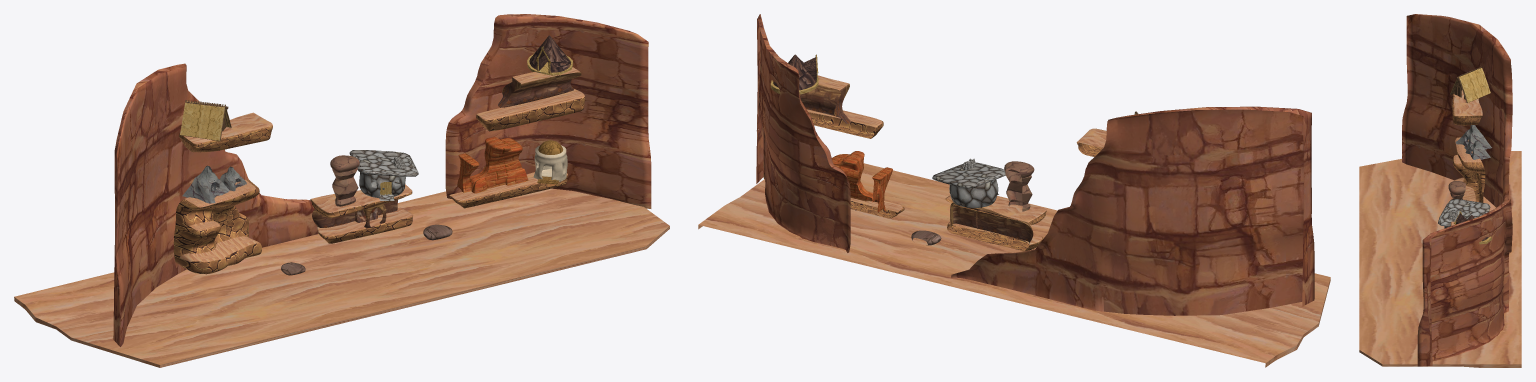
Rendered from Stage.FBX.
3 renders of one model, left to right at view 1: azimuth 30°, elevation 25°; view 2: azimuth 150°, elevation 25°; view 3: azimuth 270°, elevation 25°, orthographic. The views are drawn at different scales.
Parts seen in each view (by area): view 1: Ground, Stage_Right, Stage_Left, Left_Down, Right_Down, Central_Down, Right_Up, Picapiedra's House, Left_Up, Straw House, platform-problem, Volcano House (+3 smaller); view 2: Stage_Left, Ground, Stage_Right, Central_Down, Picapiedra's House, Right_Down, Right_Up, platform-problem, Central_Up, Conic House, Left_Up; view 3: Ground, Stage_Left, Stage_Right, Left_Down, Straw House, Picapiedra's House, Volcano House, Left_Up, Central_Up, Conic House.
Boxes of the visible parts, box(x1,y1,x2,y2) form: Ground: box(14, 188, 669, 367); Stage_Right: box(445, 14, 651, 208); Stage_Left: box(113, 63, 318, 346); Left_Down: box(173, 179, 261, 274); Right_Down: box(449, 137, 567, 208); Central_Down: box(310, 184, 412, 243); Right_Up: box(476, 67, 584, 131); Picapiedra's House: box(349, 150, 418, 200); Left_Up: box(179, 112, 272, 152); Straw House: box(180, 100, 231, 141); platform-problem: box(498, 72, 581, 107); Volcano House: box(182, 165, 246, 203); Stage_Left: box(951, 106, 1314, 315); Ground: box(698, 163, 1330, 367); Stage_Right: box(756, 14, 850, 252); Central_Down: box(945, 195, 1046, 251); Picapiedra's House: box(932, 158, 1005, 207); Right_Down: box(832, 151, 904, 218); Right_Up: box(806, 75, 883, 138); platform-problem: box(800, 84, 850, 123); Central_Up: box(1004, 161, 1034, 211); Conic House: box(770, 54, 818, 94); Left_Up: box(1076, 128, 1106, 156); Ground: box(1359, 151, 1521, 367); Stage_Left: box(1402, 14, 1512, 207); Stage_Right: box(1417, 199, 1512, 366); Left_Down: box(1453, 137, 1485, 202); Straw House: box(1450, 66, 1490, 102); Picapiedra's House: box(1438, 199, 1490, 228); Volcano House: box(1455, 125, 1491, 159); Left_Up: box(1452, 93, 1482, 125); Central_Up: box(1448, 181, 1466, 199); Conic House: box(1454, 211, 1491, 244).
Bounding box in the file's own units: 2619 × 938 × 831.
Materials: 27 (27 with a texture image).
